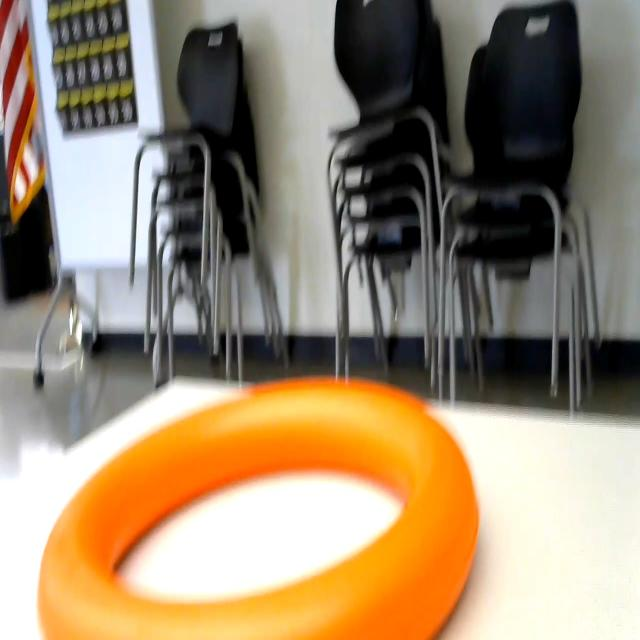note: (14, 350, 494, 640)
